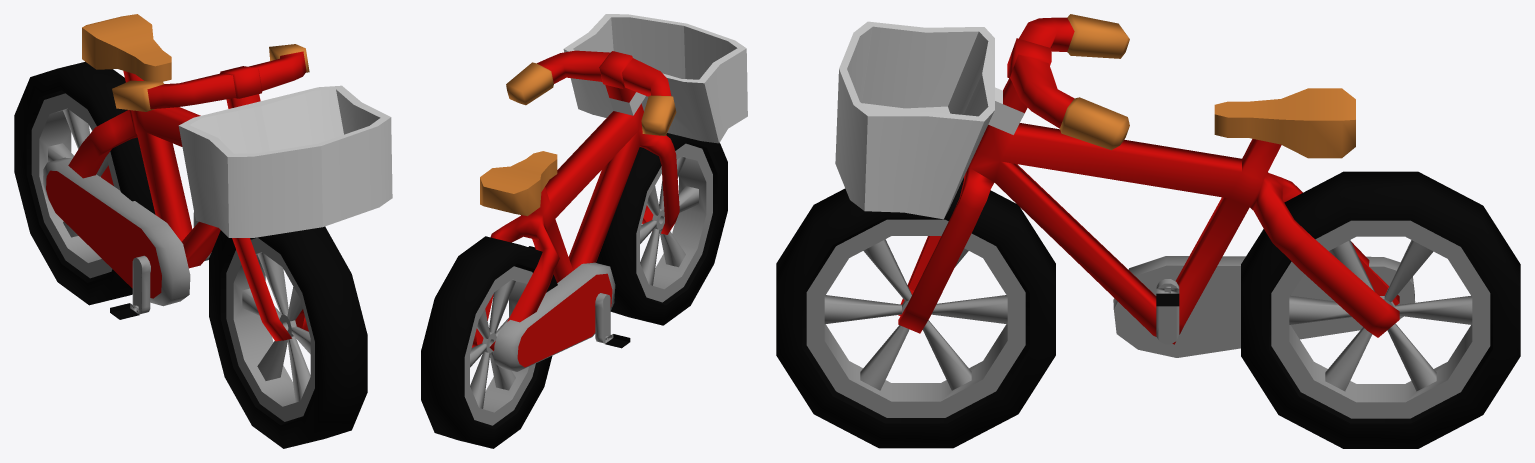
Rendered from Bike 1.fbx.
3 renders of one model, left to right at view 1: azimuth 30°, elevation 25°; view 2: azimuth 150°, elevation 25°; view 3: azimuth 270°, elevation 25°, orthographic. The views are drawn at different scales.
Parts seen in each view (by area): view 1: Frame, Wheel front, Wheel back, Stuur, Pedals; view 2: Frame, Wheel back, Wheel front, Stuur, Pedals; view 3: Frame, Wheel back, Wheel front, Stuur, Pedals.
Boxes of the visible parts, left/top/right/bottom form: Frame: left=42, top=14, right=392, bottom=341; Wheel front: left=209, top=226, right=367, bottom=448; Wheel back: left=14, top=61, right=155, bottom=305; Stuur: left=112, top=44, right=309, bottom=111; Pedals: left=110, top=212, right=210, bottom=319; Frame: left=472, top=14, right=747, bottom=371; Wheel back: left=421, top=236, right=557, bottom=448; Wheel front: left=596, top=133, right=727, bottom=325; Stuur: left=506, top=50, right=676, bottom=135; Pedals: left=528, top=246, right=630, bottom=348; Frame: left=835, top=21, right=1415, bottom=357; Wheel back: left=1241, top=171, right=1520, bottom=448; Wheel front: left=776, top=177, right=1055, bottom=448; Stuur: left=1007, top=14, right=1129, bottom=150; Pedals: left=1156, top=279, right=1179, bottom=344.
Size of the model in its own units: 82.52 by 142 by 244.
